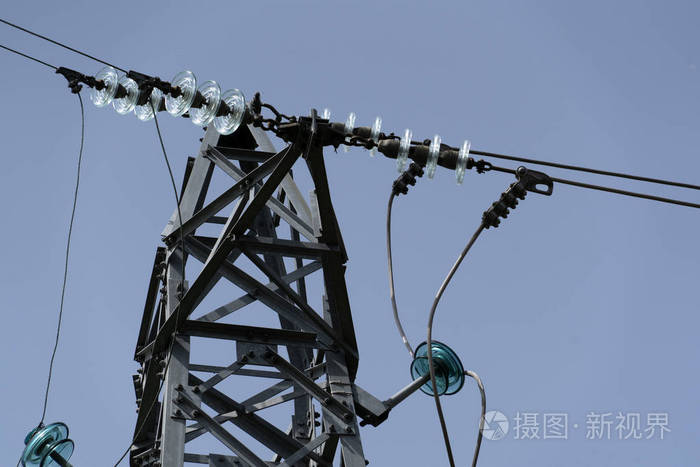insulator: (319, 105, 469, 182), (165, 68, 246, 133), (87, 65, 160, 123), (411, 338, 467, 397), (27, 422, 78, 467)
